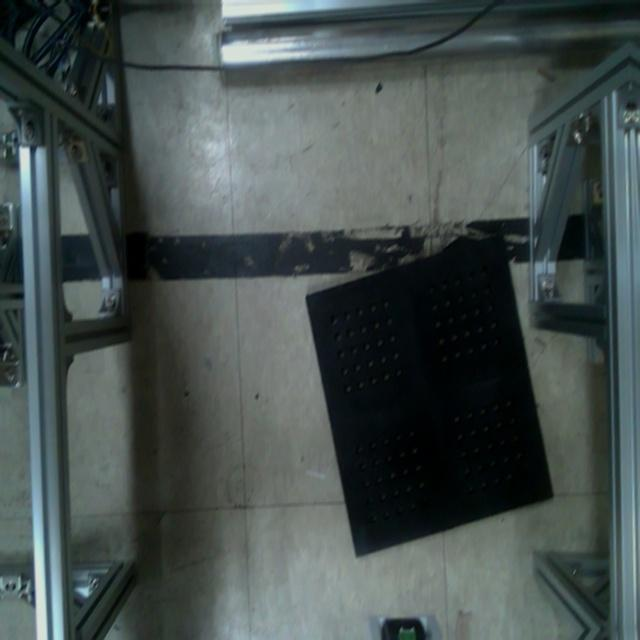pallet: (298, 230, 560, 562)
